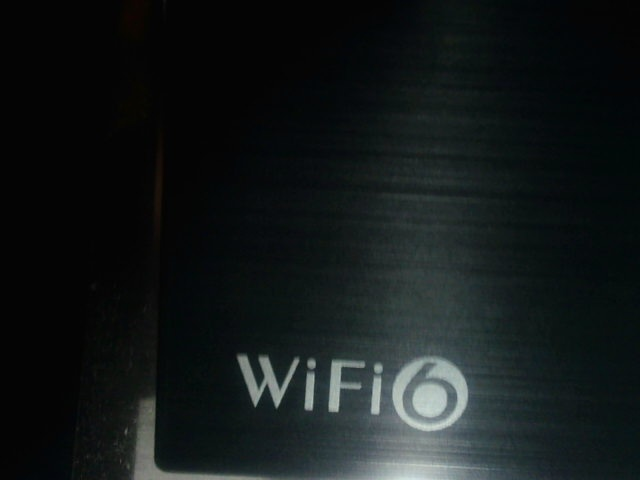AK_ZTEWIFI6Black: (228, 338, 475, 439)
